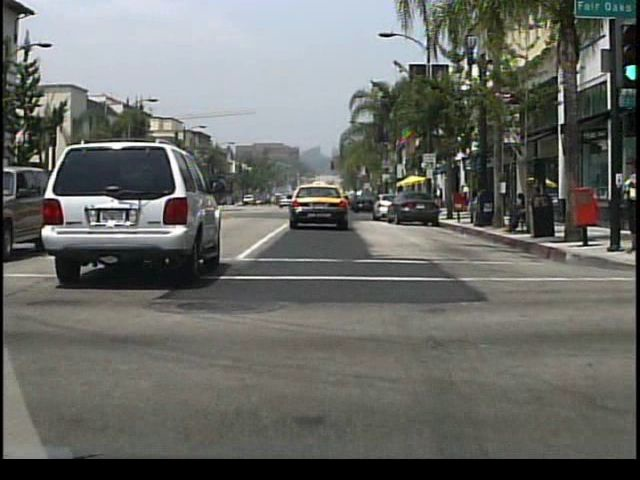person: (505, 191, 531, 232), (529, 178, 543, 232), (433, 184, 444, 212)
